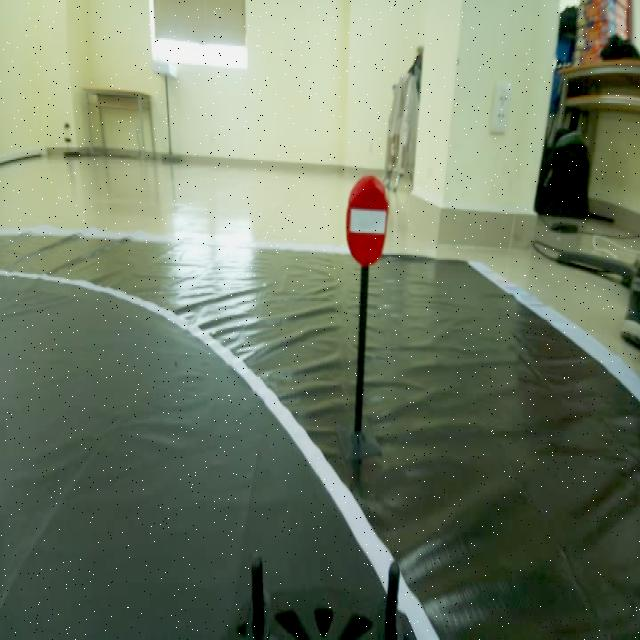no_entry: (337, 159, 391, 270)
